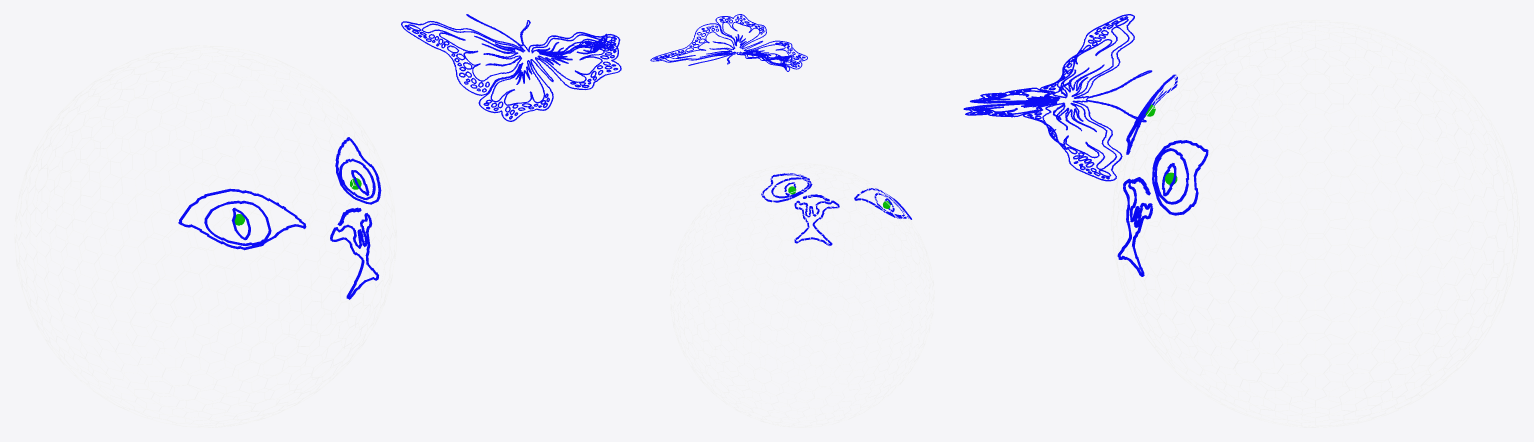
The picture shows the model from 3 angles, left to right: view 1: azimuth 30°, elevation 25°; view 2: azimuth 150°, elevation 25°; view 3: azimuth 270°, elevation 25°; orthographic projection. The views are drawn at different scales.
Size of the model in its own units: 2.32 by 1.96 by 2.18.
